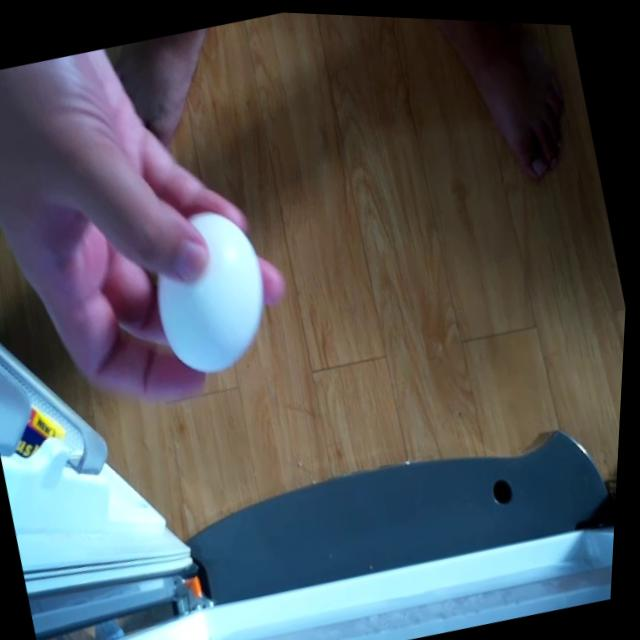egg: (137, 193, 292, 383)
